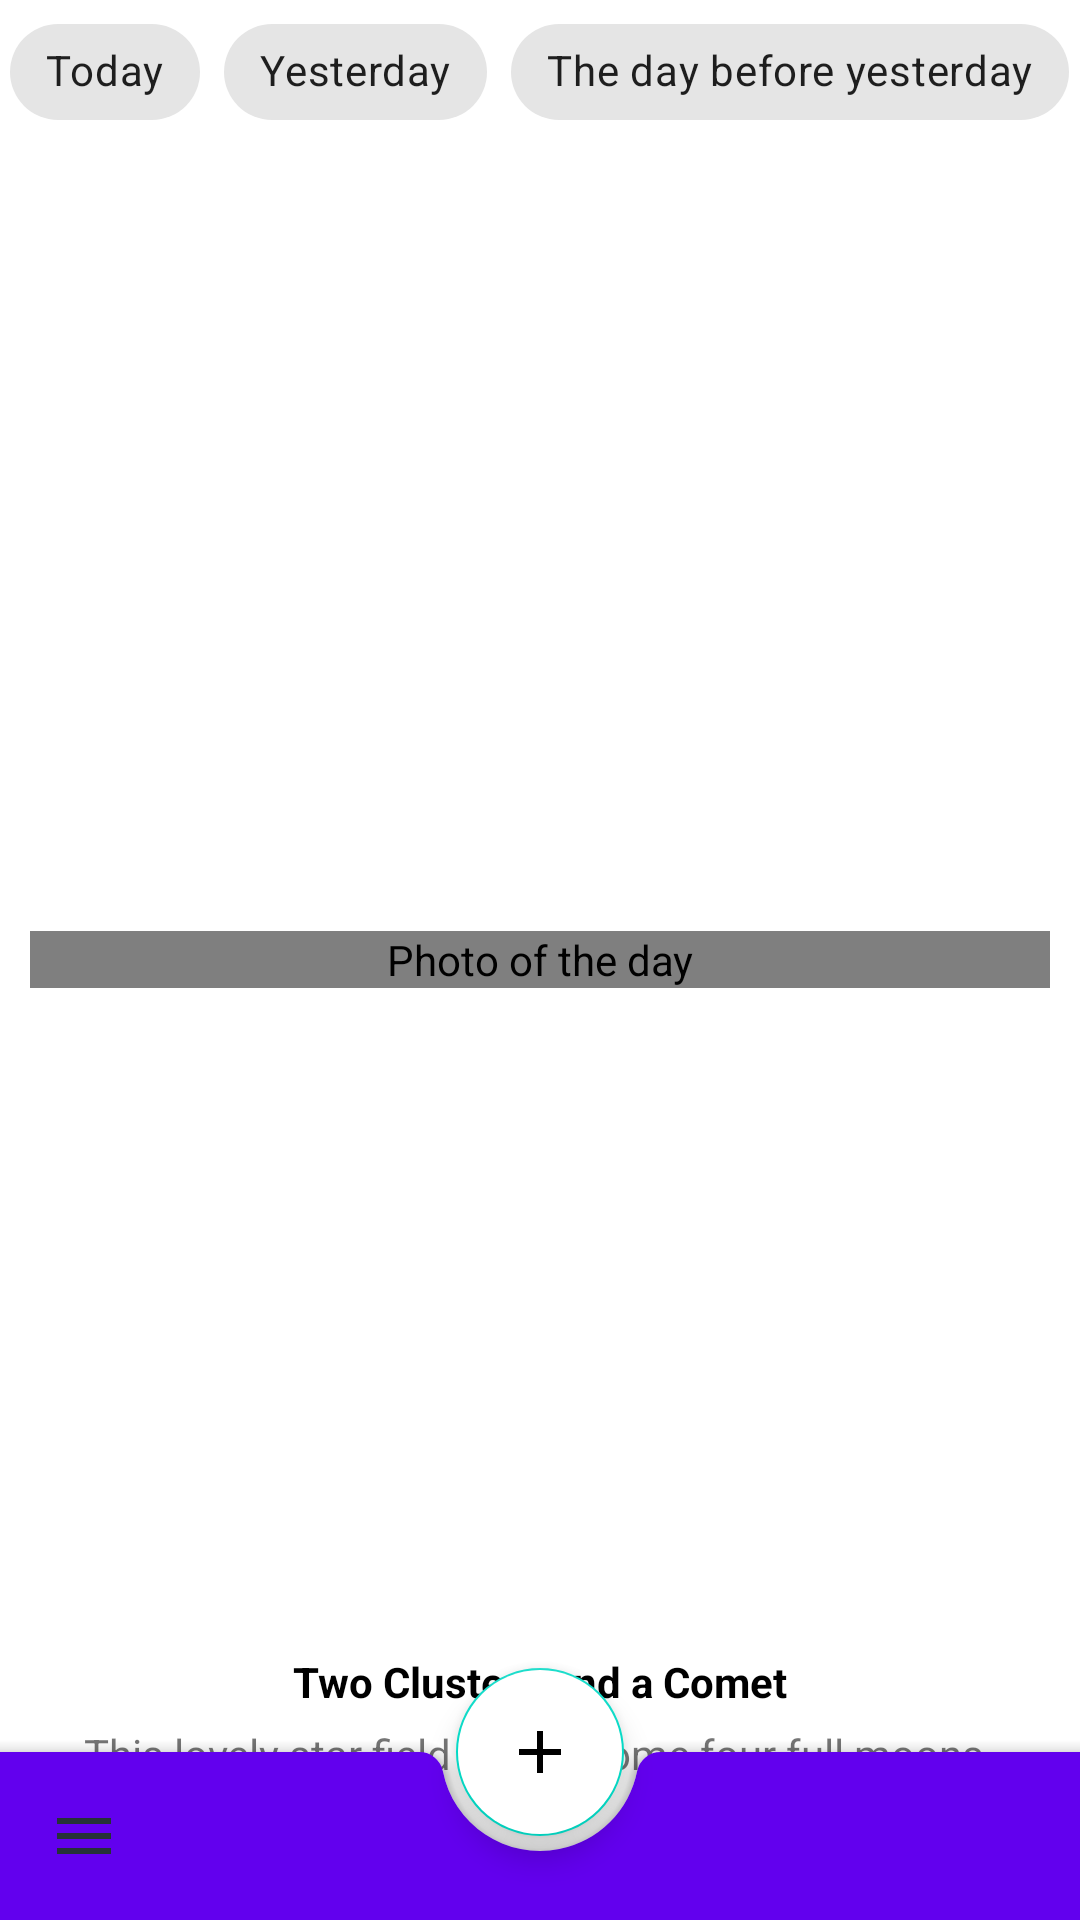

Point at icon controls on the screen. Image size 1080*1920, points as point (x, y).
plus fab: point (540, 1752)
